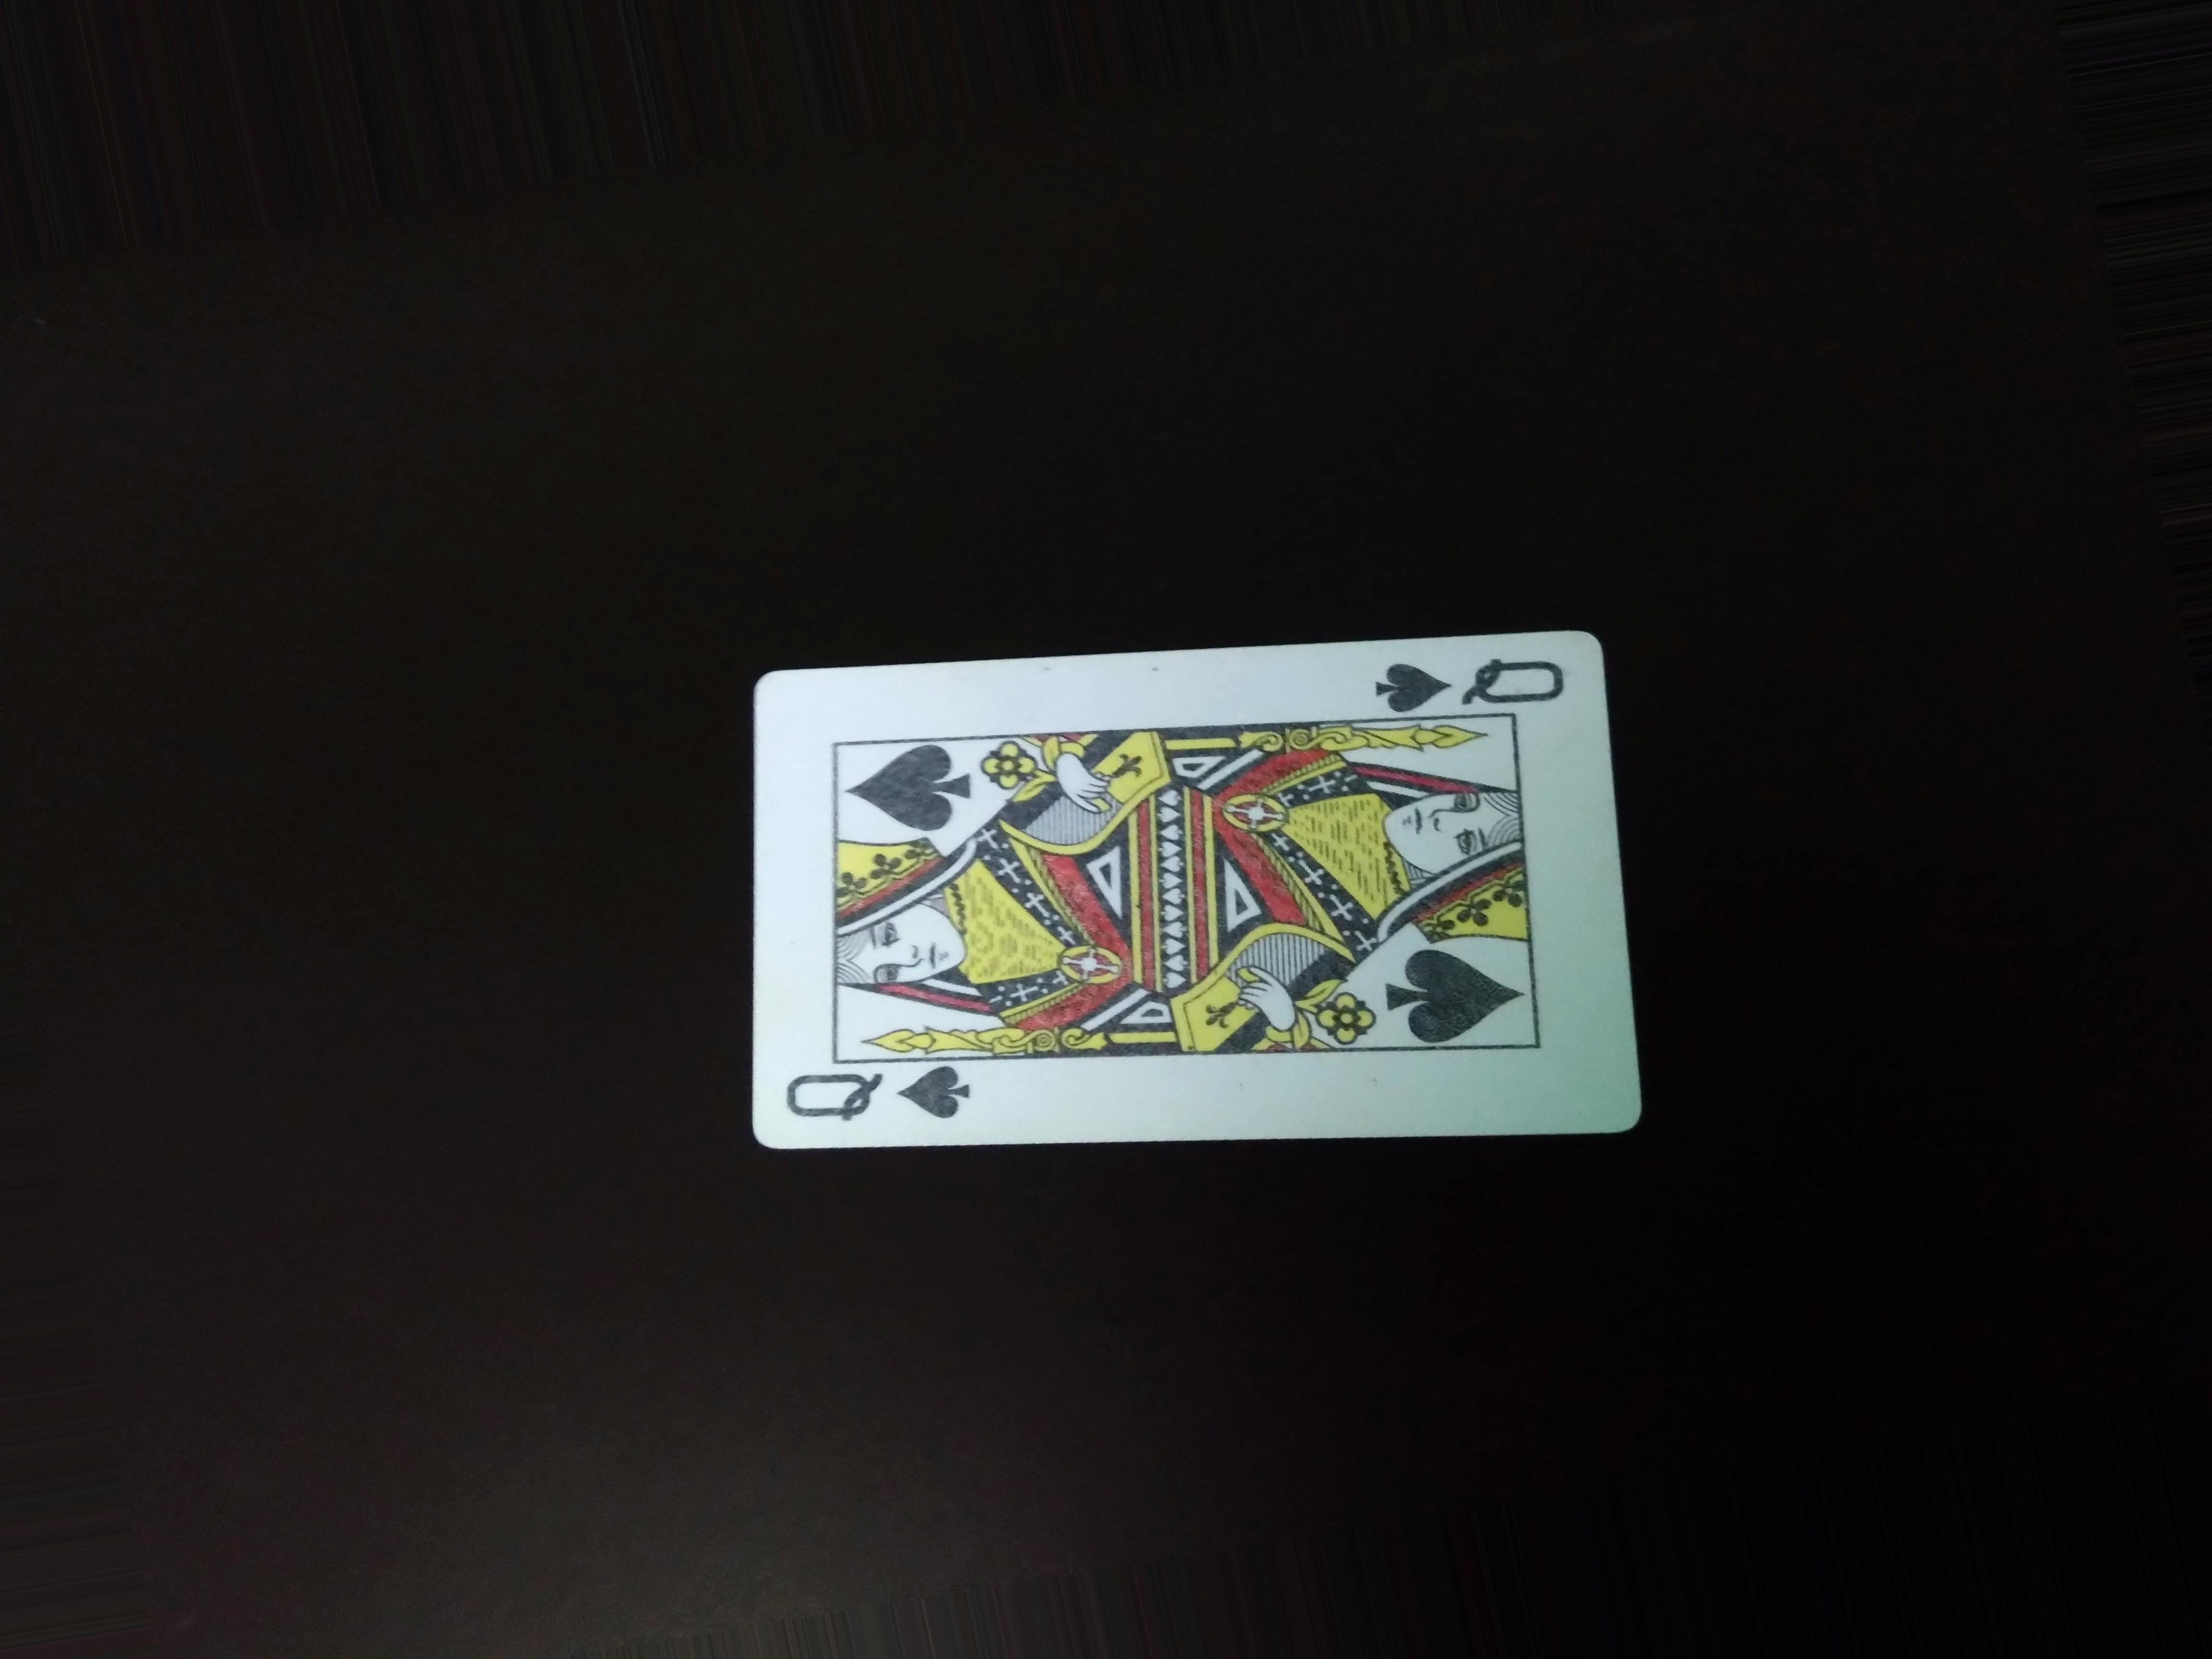QS: (770, 1063, 975, 1140)
